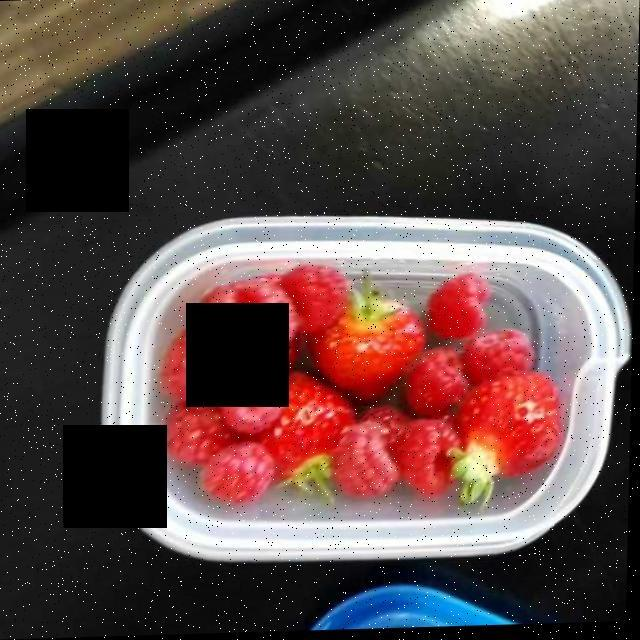raspberries: (162, 281, 297, 508), (411, 273, 534, 419), (333, 405, 460, 498)
strawberries: (268, 276, 423, 499), (457, 369, 564, 501)
